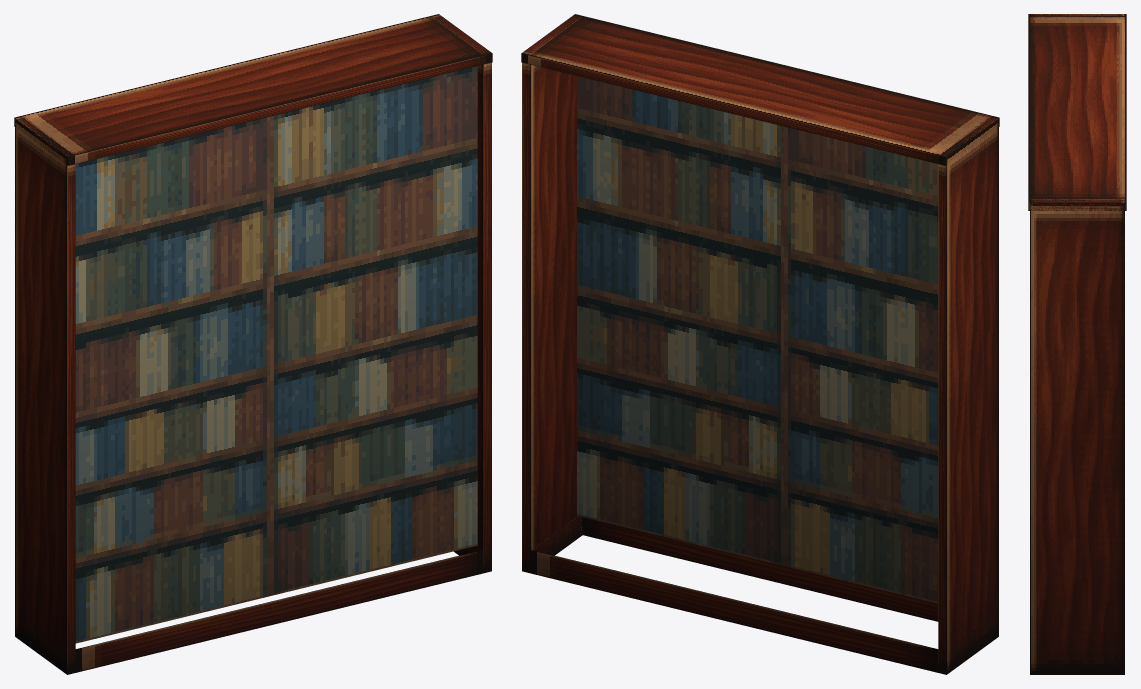
Rendered from prop_bookshelf-tall-2.glb.
3 views of the same model, side by side, from view 1: azimuth 30°, elevation 25°; view 2: azimuth 150°, elevation 25°; view 3: azimuth 270°, elevation 25° (orthographic). The views are drawn at different scales.
Visible parts, largest first — view 1: prop_bookshelf-tall-2; view 2: prop_bookshelf-tall-2; view 3: prop_bookshelf-tall-2.
Boxes of the visible parts, x1=… form: prop_bookshelf-tall-2: x1=14, y1=14, x2=492, y2=674; prop_bookshelf-tall-2: x1=521, y1=14, x2=999, y2=674; prop_bookshelf-tall-2: x1=1028, y1=14, x2=1126, y2=674.
Bounding box in the file's own units: 1.56 × 1.82 × 0.3432.
2 materials, 2 textured.
